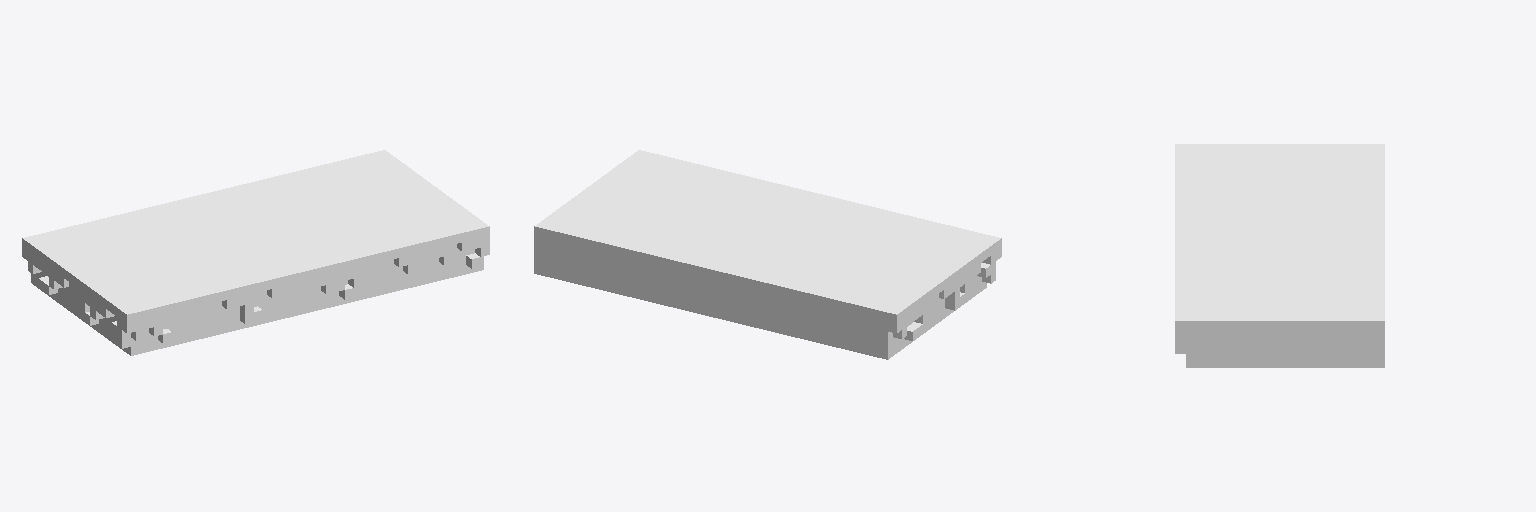
File: StartPlatform.obj
3 renders of one model, left to right at view 1: azimuth 30°, elevation 25°; view 2: azimuth 150°, elevation 25°; view 3: azimuth 270°, elevation 25°, orthographic.
Size of the model in its own units: 40 by 5 by 20.